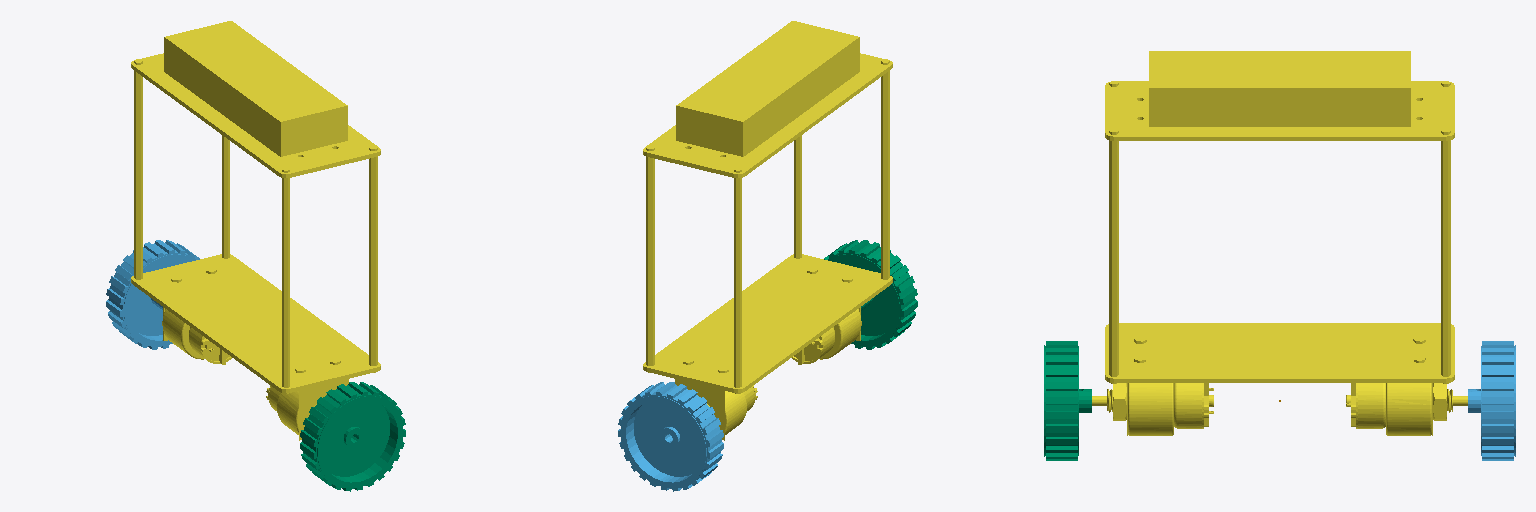
URDF robot description (balancing_robot):
<?xml version="1.0" encoding="utf-8"?>
<robot name="balancing_robot">
  <link name="base_link">
    <inertial>
      <origin xyz="0 -7.38210875324414E-21 0" rpy="0 0 0"/>
      <mass value="1E-06"/>
      <inertia ixx="1.66666666666667E-13" ixy="-1.14080217822874E-29" ixz="-8.55284707229503E-46"
               iyy="1.66666666666667E-13" iyz="-9.12431914434274E-30" izz="1.66666666666667E-13"/>
    </inertial>
    <visual>
      <origin xyz="0 0 0" rpy="0 0 0"/>
      <geometry>
        <mesh filename="package://balancing_robot/meshes/base_link.STL"/>
      </geometry>
    </visual>
    <collision>
      <origin xyz="0 0 0" rpy="0 0 0"/>
      <geometry>
        <mesh filename="package://balancing_robot/meshes/base_link.STL"/>
      </geometry>
    </collision>
  </link>

  <link name="left_wheel_link">
    <inertial>
      <origin xyz="4.1701892458914E-10 -0.0107620339834173 1.1536175521798E-09" rpy="0 0 0"/>
      <mass value="0.0282163110796927"/>
      <inertia ixx="1.1937904781933E-05" ixy="8.1598440104964E-14" ixz="-8.29761372695245E-15"
               iyy="2.21835631504705E-05" iyz="3.28078678632457E-13" izz="1.19394388896027E-05"/>
    </inertial>
    <visual>
      <origin xyz="0 0 0" rpy="0 0 0"/>
      <geometry>
        <mesh filename="package://balancing_robot/meshes/left_wheel_link.STL"/>
      </geometry>
    </visual>
    <collision>
      <origin xyz="0 0 0" rpy="0 0 0"/>
      <geometry>
        <mesh filename="package://balancing_robot/meshes/left_wheel_link.STL"/>
      </geometry>
    </collision>
  </link>

  <joint name="left_wheel_joint" type="continuous">
    <origin xyz="0 0.134899999999995 0" rpy="0 0 0"/>
    <parent link="base_link"/>
    <child link="left_wheel_link"/>
    <axis xyz="0 -1 0"/>
  </joint>

  <link name="right_wheel_link">
    <inertial>
      <origin xyz="-4.17023003332256E-10 0.0107620339834228 1.15361737870745E-09" rpy="0 0 0"/>
      <mass value="0.0282163110796927"/>
      <inertia ixx="1.1937904781933E-05" ixy="8.15984467319882E-14" ixz="8.29761011169958E-15"
               iyy="2.21835631504705E-05" iyz="-3.28078679600782E-13" izz="1.19394388896027E-05"/>
    </inertial>
    <visual>
      <origin xyz="0 0 0" rpy="0 0 0"/>
      <geometry>
        <mesh filename="package://balancing_robot/meshes/right_wheel_link.STL"/>
      </geometry>
    </visual>
    <collision>
      <origin xyz="0 0 0" rpy="0 0 0"/>
      <geometry>
        <mesh filename="package://balancing_robot/meshes/right_wheel_link.STL"/>
      </geometry>
    </collision>
  </link>

  <joint name="right_wheel_joint" type="continuous">
    <origin xyz="0 -0.1349 0" rpy="0 0 0"/>
    <parent link="base_link"/>
    <child link="right_wheel_link"/>
    <axis xyz="0 -1 0"/>
  </joint>

  <link name="chassis_link">
    <inertial>
      <origin xyz="-1.88758257427167E-15 3.49754321041601E-17 0.172062989016561" rpy="0 0 0"/>
      <mass value="1.77314076010499"/>
      <inertia ixx="0.00326400388015331" ixy="-8.78275988539413E-12" ixz="-5.64098733173093E-21"
               iyy="0.000515351639912476" iyz="-4.62513025730632E-20" izz="0.00352853610955004"/>
    </inertial>
    <visual>
      <origin xyz="0 0 0" rpy="0 0 0"/>
      <geometry>
        <mesh filename="package://balancing_robot/meshes/chassis_link.STL"/>
      </geometry>
    </visual>
    <collision>
      <origin xyz="0 0 0" rpy="0 0 0"/>
      <geometry>
        <mesh filename="package://balancing_robot/meshes/chassis_link.STL"/>
      </geometry>
    </collision>
  </link>

  <joint name="chassis_joint" type="continuous">
    <origin xyz="0 0 0" rpy="0 0 0"/>
    <parent link="base_link"/>
    <child link="chassis_link"/>
    <axis xyz="0 -1 0"/>
  </joint>
</robot>

--- Render facts (derived) ---
Views: 3 orthographic renders of the robot side by side, from view 1: azimuth 30°, elevation 25°; view 2: azimuth 150°, elevation 25°; view 3: azimuth 270°, elevation 25°.
Robot: balancing_robot — 4 links, 3 joints (3 continuous); root link base_link; default pose: all joints at 0.
Links seen in each view (by area): view 1: chassis_link, right_wheel_link, left_wheel_link; view 2: chassis_link, left_wheel_link, right_wheel_link; view 3: chassis_link, left_wheel_link, right_wheel_link.
Link boxes in pixels (x1,y1,x2,y2): chassis_link: (131,21,380,440); right_wheel_link: (300,382,405,491); left_wheel_link: (106,240,199,349); chassis_link: (643,21,892,440); left_wheel_link: (618,382,723,491); right_wheel_link: (824,240,917,349); chassis_link: (1092,51,1467,435); left_wheel_link: (1468,341,1515,460); right_wheel_link: (1044,341,1091,460).
Size in the robot's own frame: 0.075 by 0.2698 by 0.2439 metres.
4 mesh visuals loaded from 4 distinct referenced files (4 binary STL).